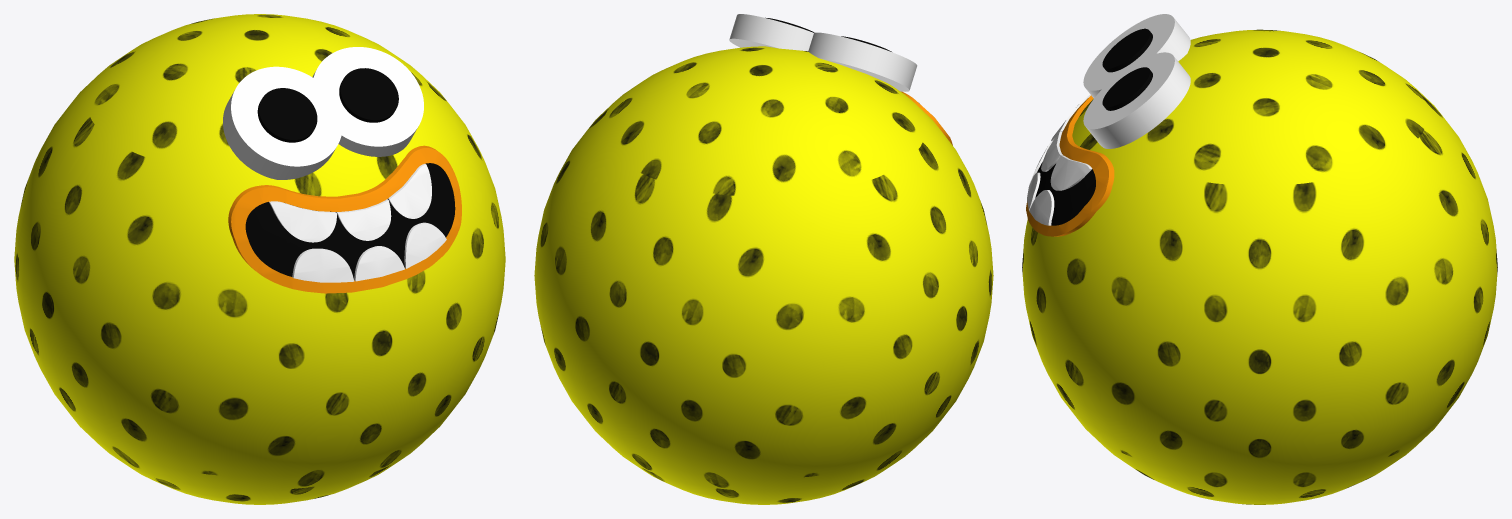
3 views of the same model, side by side, from view 1: azimuth 30°, elevation 25°; view 2: azimuth 150°, elevation 25°; view 3: azimuth 270°, elevation 25° (orthographic). The views are drawn at different scales.
Parts seen in each view (by area): view 1: Sphere, teeth_1, mouth_1, stroke; view 2: Sphere, teeth_1; view 3: Sphere, teeth_1, mouth_1, stroke.
Boxes of the visible parts, box(x1,y1,x2,y2) form: Sphere: box(14, 14, 505, 504); teeth_1: box(223, 47, 446, 282); mouth_1: box(245, 68, 455, 279); stroke: box(228, 145, 461, 293); Sphere: box(534, 46, 993, 504); teeth_1: box(729, 14, 920, 104); Sphere: box(1022, 29, 1497, 504); teeth_1: box(1027, 14, 1190, 225); mouth_1: box(1035, 28, 1152, 225); stroke: box(1026, 95, 1114, 236).
Size of the model in its own units: 176 by 180 by 176.
4 materials, 1 textured.
